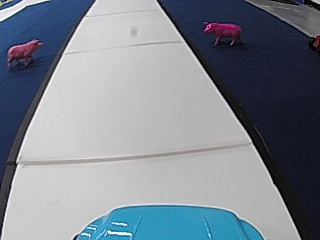pig: (4, 36, 42, 70), (200, 18, 242, 46)
